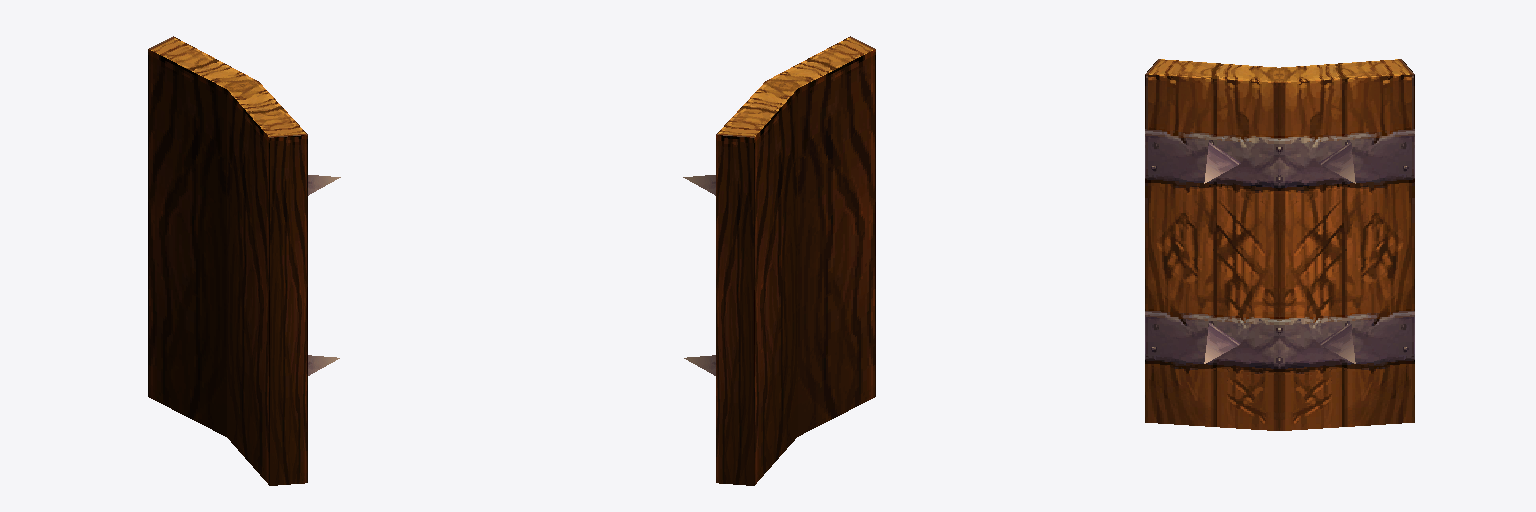
3 views of the same model, side by side, from view 1: azimuth 30°, elevation 25°; view 2: azimuth 150°, elevation 25°; view 3: azimuth 270°, elevation 25° (orthographic).
Parts seen in each view (by area): view 1: orcshield01.m2; view 2: orcshield01.m2; view 3: orcshield01.m2.
Boxes of the visible parts, box(x1,y1,x2,y2) form: orcshield01.m2: box(148, 36, 340, 485); orcshield01.m2: box(683, 36, 875, 485); orcshield01.m2: box(1145, 59, 1414, 430).
Bounding box in the file's own units: 0.3083 × 1.09 × 0.7666.
Materials: 1 (1 with a texture image).